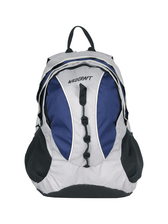bag: (22, 23, 147, 199)
